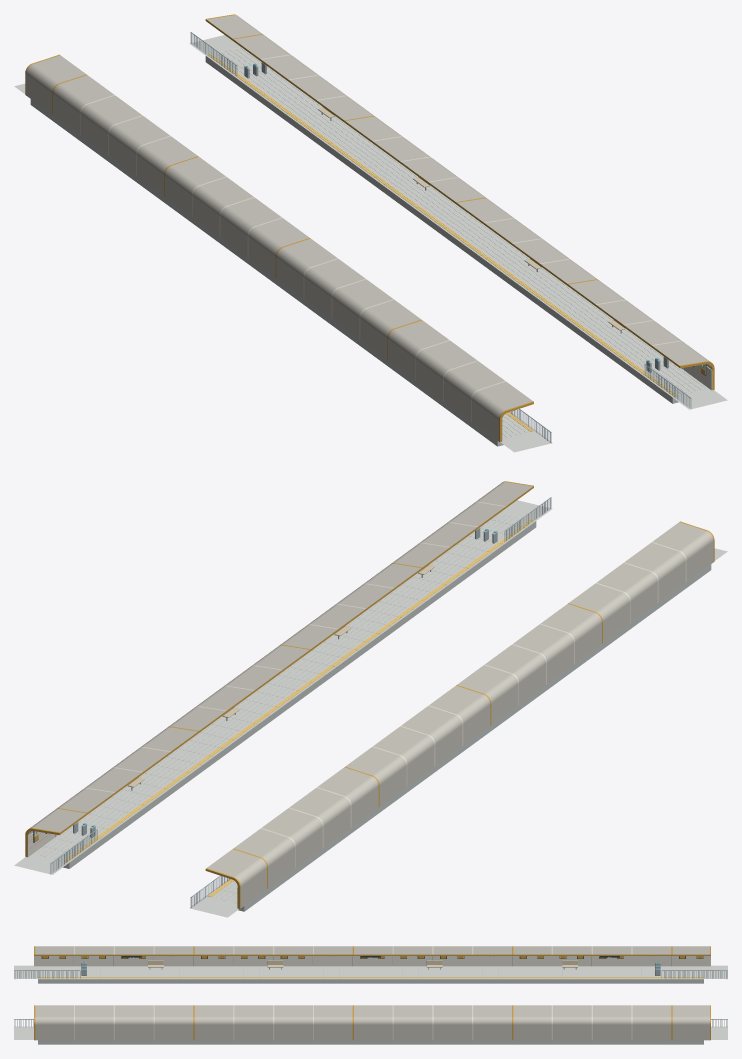
Rendered from station-A5.glb.
The picture shows the model from 3 angles, top to bottom: view 1: azimuth 30°, elevation 25°; view 2: azimuth 150°, elevation 25°; view 3: azimuth 270°, elevation 25°; orthographic projection. The views are drawn at different scales.
Parts seen in each view (by area): view 1: A5_platform_-1_roof, A5_platform_1_tile, A5_platform_1_roof, A5_platform_1_concrete, A5_platform_-1_concrete, A5_platform_1_yellow, A5_platform_-1_cladding, A5_platform_-1_tile, A5_platform_1_cladding; view 2: A5_platform_-1_roof, A5_platform_1_tile, A5_platform_1_roof, A5_platform_1_concrete, A5_platform_-1_concrete, A5_platform_1_yellow, A5_platform_-1_cladding, A5_platform_-1_tile, A5_platform_1_cladding, A5_platform_-1_accent; view 3: A5_platform_1_roof, A5_platform_-1_tile, A5_platform_-1_cladding, A5_platform_-1_roof, A5_platform_-1_concrete, A5_platform_1_concrete, A5_platform_-1_yellow, A5_platform_1_cladding, A5_platform_-1_accent, A5_platform_-1_sand, A5_platform_1_tile, A5_platform_-1_approach_rail_1_steel (+3 smaller).
Boxes of the visible parts, bbox=[...] form: A5_platform_-1_roof: bbox=[26, 55, 532, 441]; A5_platform_1_tile: bbox=[189, 35, 727, 409]; A5_platform_1_roof: bbox=[206, 15, 711, 368]; A5_platform_1_concrete: bbox=[205, 56, 678, 403]; A5_platform_-1_concrete: bbox=[30, 99, 503, 446]; A5_platform_1_yellow: bbox=[208, 54, 704, 396]; A5_platform_-1_cladding: bbox=[80, 95, 505, 441]; A5_platform_-1_tile: bbox=[14, 83, 552, 452]; A5_platform_1_cladding: bbox=[260, 54, 712, 390]; A5_platform_-1_roof: bbox=[207, 522, 713, 907]; A5_platform_1_tile: bbox=[14, 500, 552, 874]; A5_platform_1_roof: bbox=[28, 482, 533, 835]; A5_platform_1_concrete: bbox=[63, 521, 536, 868]; A5_platform_-1_concrete: bbox=[238, 564, 711, 911]; A5_platform_1_yellow: bbox=[35, 519, 533, 861]; A5_platform_-1_cladding: bbox=[237, 542, 686, 907]; A5_platform_-1_tile: bbox=[189, 548, 727, 917]; A5_platform_1_cladding: bbox=[27, 501, 506, 856]; A5_platform_-1_accent: bbox=[205, 521, 714, 908]; A5_platform_1_roof: bbox=[35, 1005, 709, 1040]; A5_platform_-1_tile: bbox=[14, 965, 727, 979]; A5_platform_-1_cladding: bbox=[34, 946, 710, 966]; A5_platform_-1_roof: bbox=[35, 946, 709, 965]; A5_platform_-1_concrete: bbox=[38, 966, 703, 983]; A5_platform_1_concrete: bbox=[38, 1040, 703, 1044]; A5_platform_-1_yellow: bbox=[38, 977, 703, 978]; A5_platform_1_cladding: bbox=[74, 1005, 632, 1040]; A5_platform_-1_accent: bbox=[34, 946, 710, 958]; A5_platform_-1_sand: bbox=[148, 960, 577, 967]; A5_platform_1_tile: bbox=[14, 1026, 727, 1039]; A5_platform_-1_approach_rail_1_steel: bbox=[661, 970, 727, 978].
Bounding box in the file's own units: 22.2 × 3.8 × 89.64.
